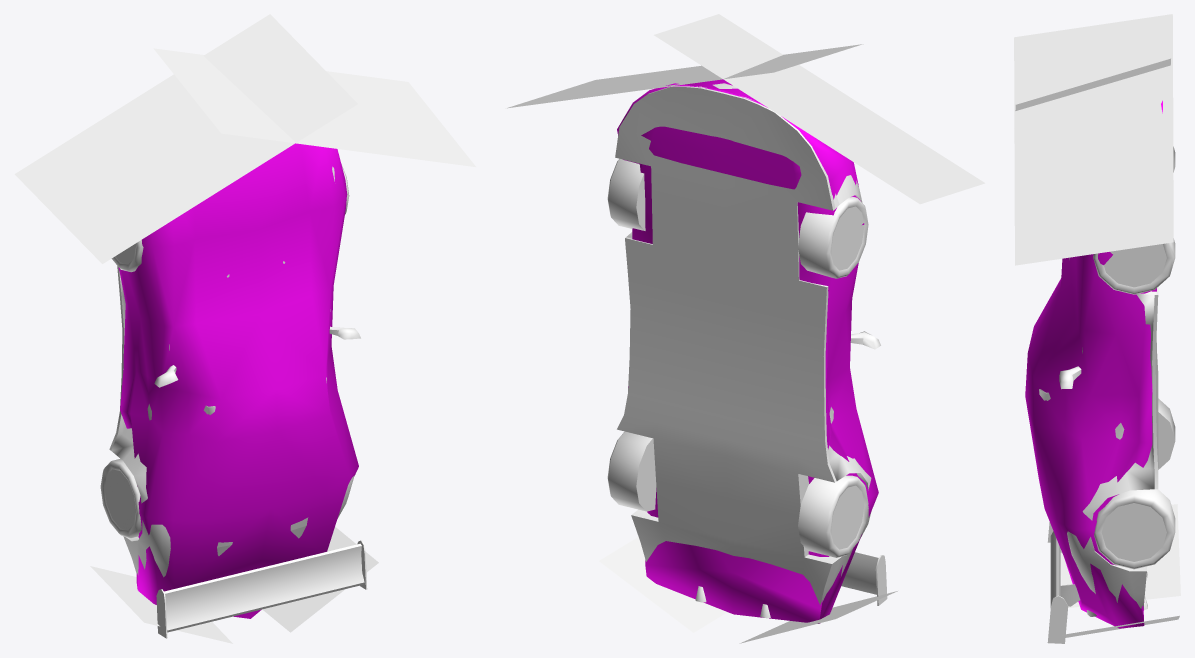
Rendered from Marcos.glb.
The picture shows the model from 3 angles, left to right: view 1: azimuth 30°, elevation 25°; view 2: azimuth 150°, elevation 25°; view 3: azimuth 270°, elevation 25°; orthographic projection. The views are drawn at different scales.
Visible parts, largest first — view 1: MarcosProxy, MarcosFrontLights, Marcos, MarcosRearLights, MarcosWheel_LB; view 2: Marcos, MarcosProxy, MarcosFrontLights, MarcosWheel_LB, MarcosRearLights, MarcosWheel_LF, MarcosWheel_RB, MarcosWheel_RF; view 3: MarcosFrontLights, MarcosProxy, Marcos, MarcosWheel_RB, MarcosWheel_RF, MarcosRearLights, MarcosWheel_LB.
Part boxes in pixels (left/top/right/bottom): MarcosProxy: left=118, top=143, right=358, bottom=618; MarcosFrontLights: left=14, top=14, right=475, bottom=263; Marcos: left=109, top=166, right=367, bottom=638; MarcosRearLights: left=90, top=527, right=378, bottom=643; MarcosWheel_LB: left=100, top=458, right=141, bottom=537; Marcos: left=615, top=83, right=887, bottom=618; MarcosProxy: left=617, top=79, right=878, bottom=623; MarcosFrontLights: left=507, top=14, right=984, bottom=204; MarcosWheel_LB: left=798, top=475, right=868, bottom=557; MarcosRearLights: left=599, top=537, right=897, bottom=643; MarcosWheel_LF: left=798, top=197, right=868, bottom=278; MarcosWheel_RB: left=607, top=431, right=656, bottom=511; MarcosWheel_RF: left=607, top=158, right=645, bottom=230; MarcosFrontLights: left=1014, top=14, right=1173, bottom=265; MarcosProxy: left=1025, top=100, right=1162, bottom=628; Marcos: left=1039, top=258, right=1158, bottom=643; MarcosWheel_RB: left=1094, top=489, right=1175, bottom=569; MarcosWheel_RF: left=1093, top=238, right=1175, bottom=294; MarcosRearLights: left=1060, top=504, right=1180, bottom=637; MarcosWheel_LB: left=1158, top=398, right=1175, bottom=469.
Bounding box in the file's own units: 3.93 × 5.44 × 1.39.
